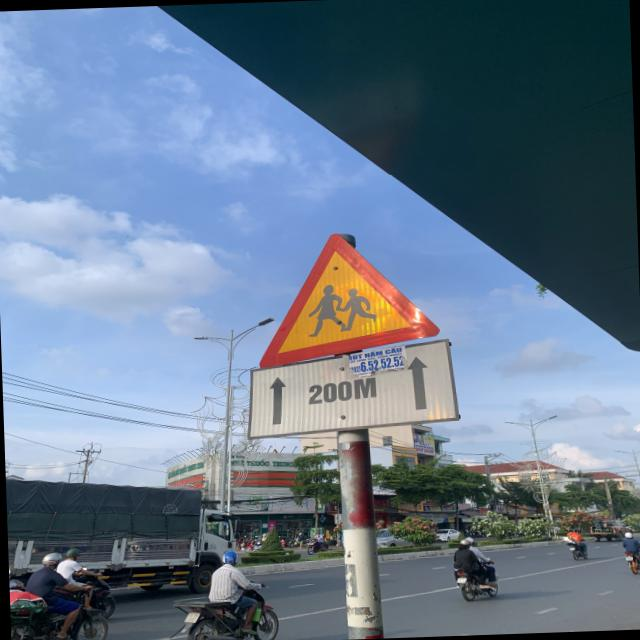Vong_Xuyen: (253, 232, 440, 368)
